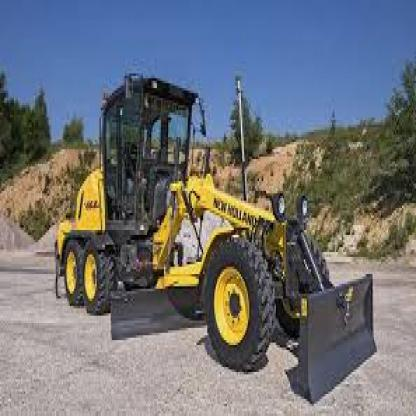bull_dozer/loader/grader: (38, 66, 381, 396)
